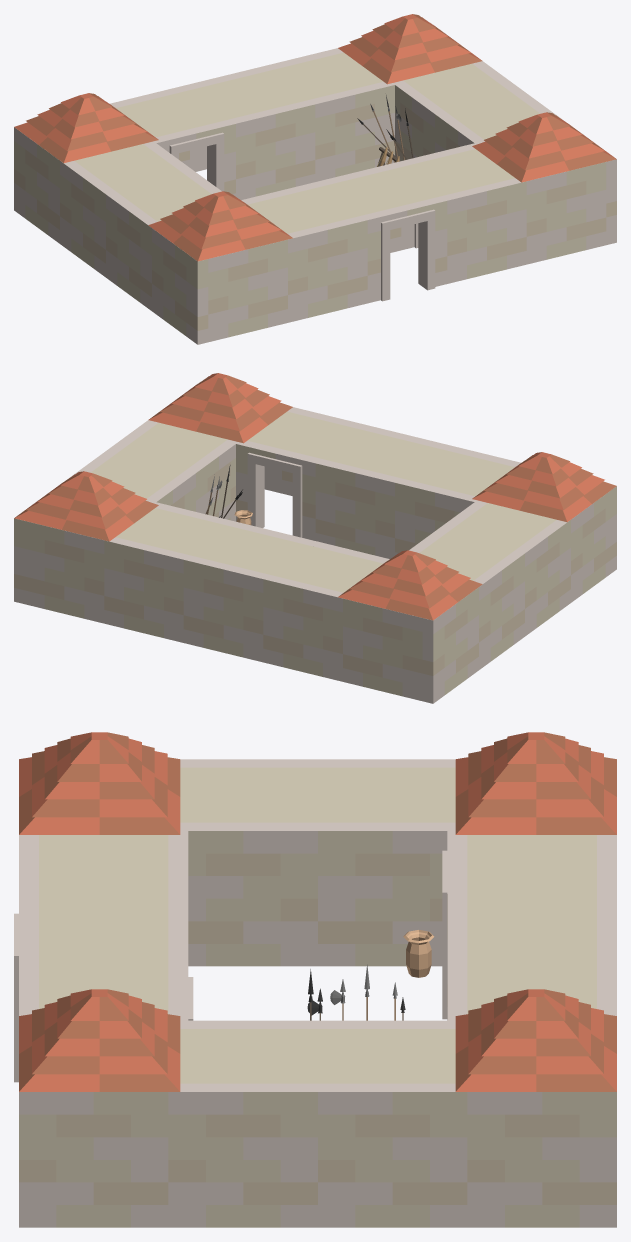
3 renders of one model, top to bottom at view 1: azimuth 30°, elevation 25°; view 2: azimuth 150°, elevation 25°; view 3: azimuth 270°, elevation 25°, orthographic. The views are drawn at different scales.
Visible parts, largest first — view 1: Barrack; view 2: Barrack; view 3: Barrack.
Boxes of the visible parts, x1,y1,x2,y2 form: Barrack: (14, 14, 616, 344); Barrack: (14, 373, 616, 703); Barrack: (14, 732, 616, 1227).
Size of the model in its own units: 1580 by 446 by 1210.
